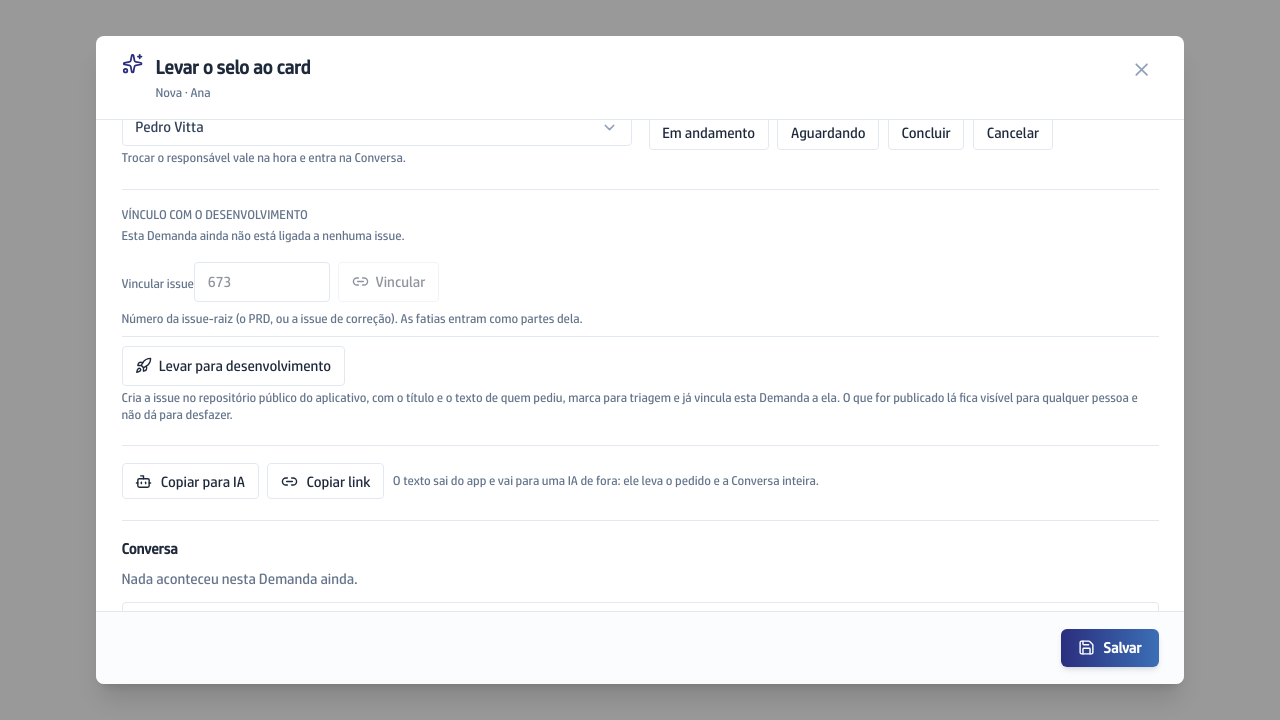
Test: O que o clique de levar manda ao servidor › a recusa do servidor aparece na tela com a frase DELE
(page scrolled)
Click the button "Levar para desenvolvimento" at (233, 366), box [122,346,345,386]
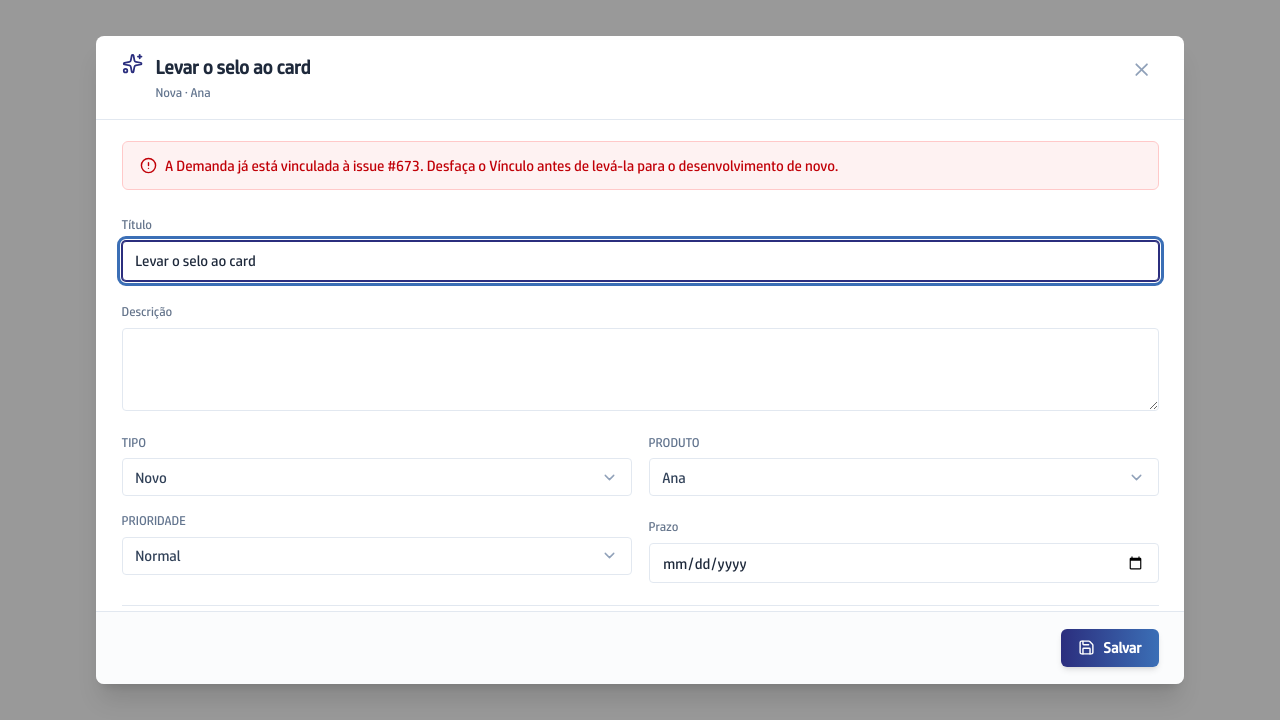
Check: the text "A Demanda já está vinculada à issue #673. Desfaça o Vínculo antes de levá-la para o desenvolvimento de novo." is shown, box [165,157,838,174]
